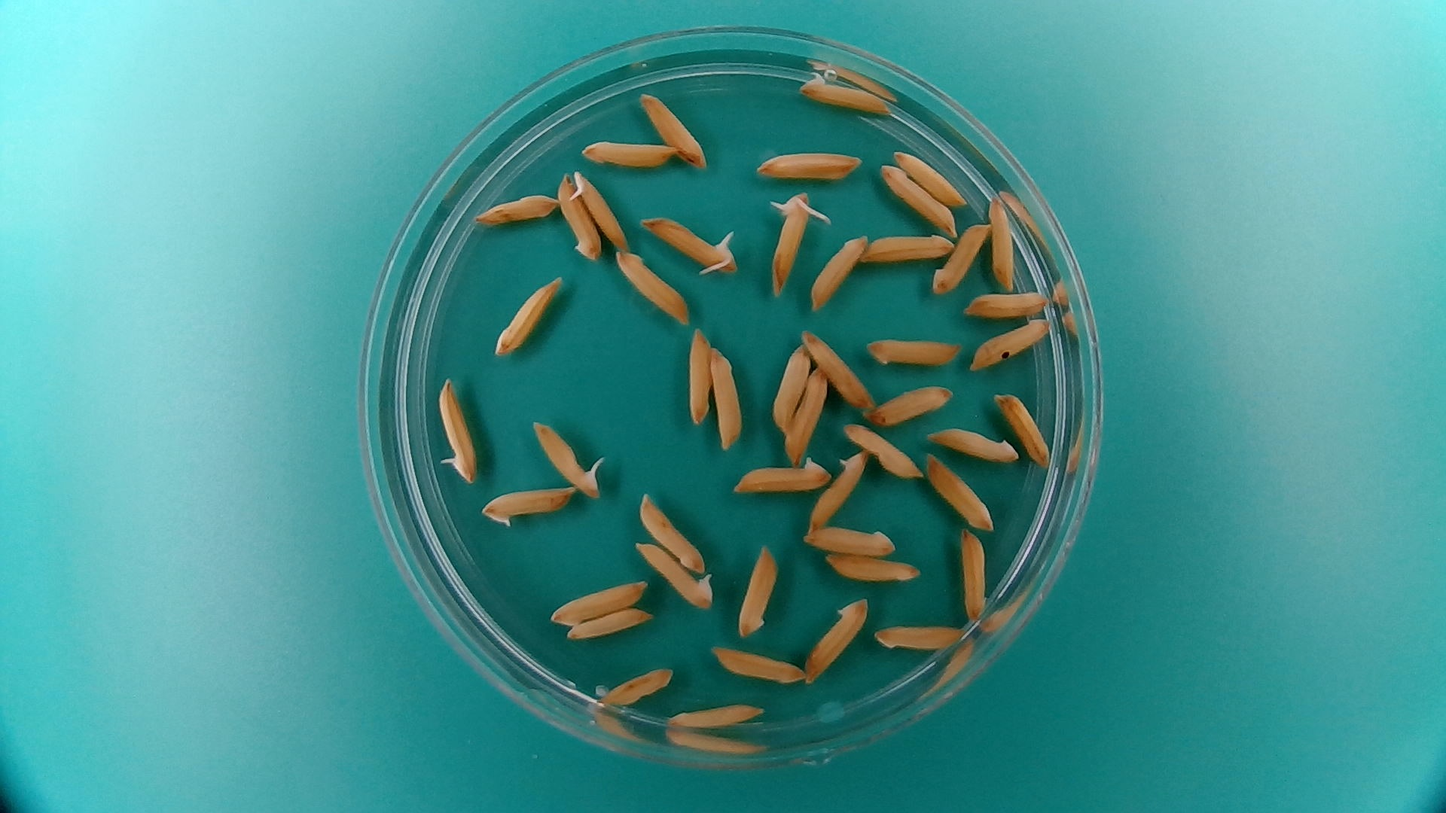no: (490, 273, 563, 360), (800, 326, 874, 410), (802, 592, 868, 686), (636, 86, 710, 169), (877, 160, 959, 234), (636, 489, 708, 573), (614, 248, 691, 324), (923, 452, 996, 531), (545, 575, 650, 629), (839, 421, 924, 481), (965, 315, 1055, 371), (783, 361, 831, 464), (808, 230, 868, 311), (994, 391, 1054, 468), (555, 170, 603, 263), (930, 222, 990, 296), (892, 148, 967, 207), (706, 643, 807, 686), (734, 542, 778, 639), (864, 382, 955, 428), (753, 146, 864, 183), (923, 422, 1019, 464), (707, 343, 745, 449), (769, 343, 812, 435), (595, 662, 676, 710), (862, 333, 963, 369), (801, 521, 898, 558), (868, 620, 969, 655), (576, 134, 676, 169), (563, 604, 654, 642), (664, 698, 766, 731), (471, 189, 559, 227), (824, 550, 921, 584), (862, 231, 954, 265), (959, 527, 990, 623), (684, 325, 712, 429), (963, 286, 1051, 318), (988, 196, 1017, 288)
yes: (633, 538, 715, 611), (646, 218, 737, 278), (765, 189, 816, 296), (807, 447, 870, 532), (532, 422, 601, 499), (435, 376, 480, 486), (571, 168, 628, 252), (795, 69, 895, 116), (731, 452, 832, 497), (483, 486, 578, 528)
